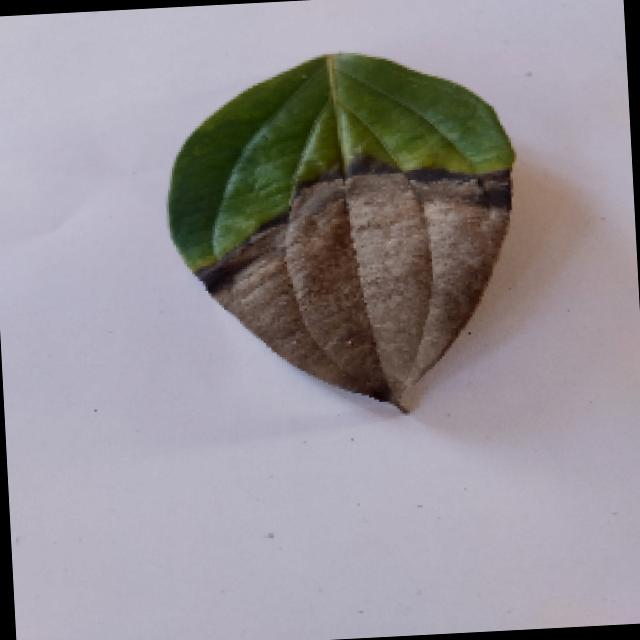footrot: (164, 40, 535, 428)
